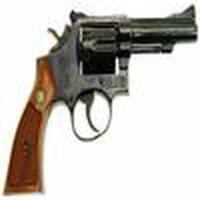gun: (10, 12, 200, 194)
